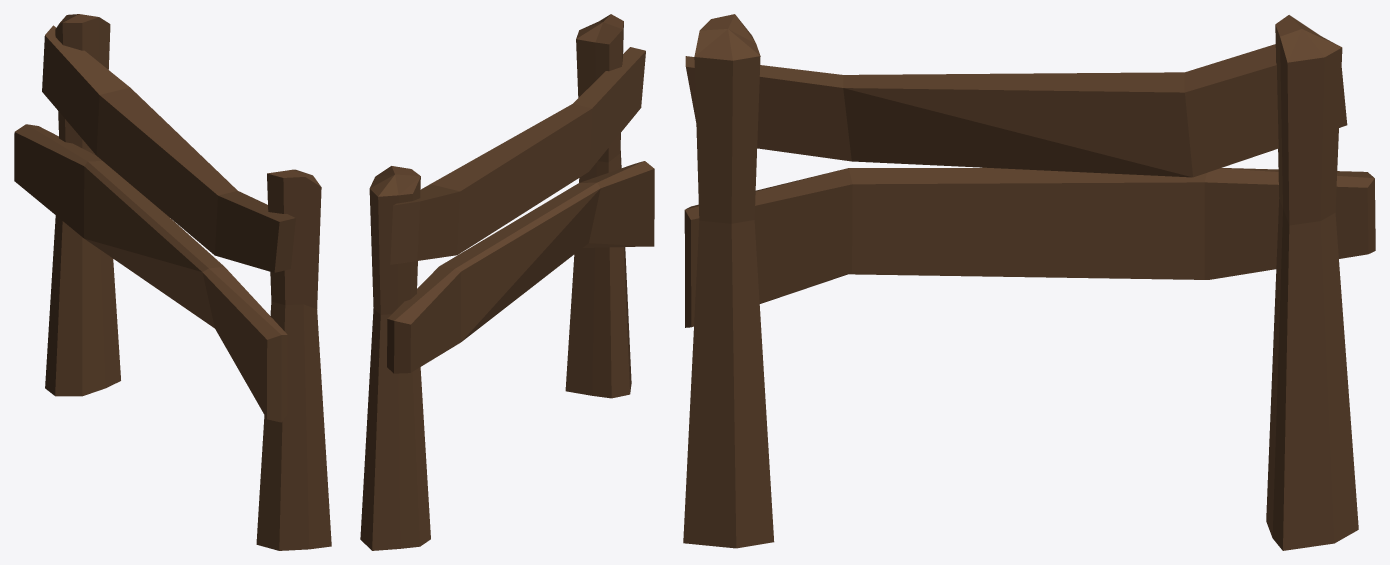
File: railFence3-compressed.glb
3 renders of one model, left to right at view 1: azimuth 30°, elevation 25°; view 2: azimuth 150°, elevation 25°; view 3: azimuth 270°, elevation 25°, orthographic. The views are drawn at different scales.
Visible parts, largest first — view 1: railFence3; view 2: railFence3; view 3: railFence3.
Boxes of the visible parts, bbox=[...] form: railFence3: bbox=[14, 14, 331, 550]; railFence3: bbox=[360, 14, 654, 550]; railFence3: bbox=[683, 14, 1375, 550].
Bounding box in the file's own units: 0.2324 × 1.05 × 1.32.
